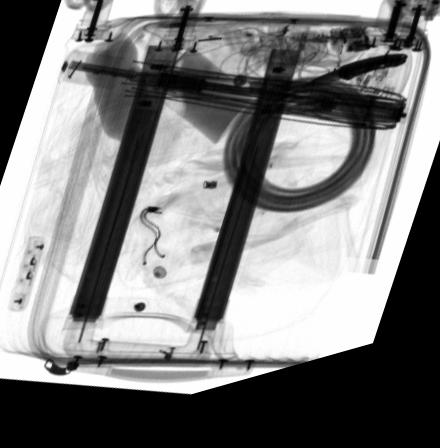Knife: (302, 75, 408, 104)
